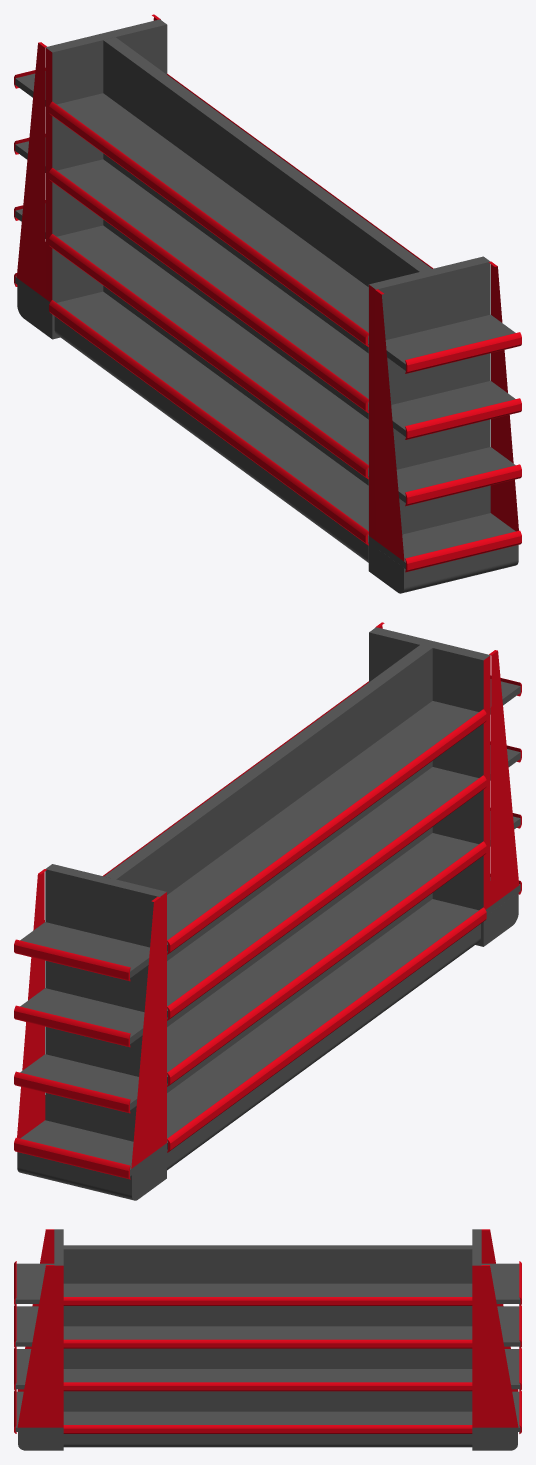
The model's file is store_shelf.glb.
The picture shows the model from 3 angles, top to bottom: view 1: azimuth 30°, elevation 25°; view 2: azimuth 150°, elevation 25°; view 3: azimuth 270°, elevation 25°; orthographic projection. The views are drawn at different scales.
Parts seen in each view (by area): view 1: Bodyframe; view 2: Bodyframe; view 3: Bodyframe.
Boxes of the visible parts, bbox=[...] form: Bodyframe: bbox=[14, 14, 521, 593]; Bodyframe: bbox=[14, 622, 521, 1200]; Bodyframe: bbox=[14, 1229, 521, 1450].
Bounding box in the file's own units: 2.2 × 5 × 12.43.
